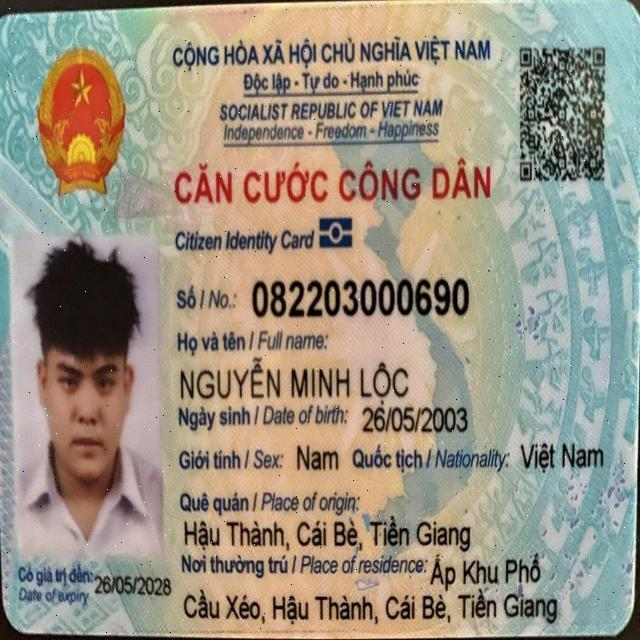current_place: (181, 585, 560, 628), (429, 551, 543, 593)
dob: (360, 404, 470, 438)
expire_date: (92, 572, 173, 601)
gender: (295, 440, 340, 475)
id: (250, 275, 472, 322)
name: (178, 353, 411, 405)
nationality: (518, 440, 606, 475)
origin_place: (182, 513, 472, 554)
